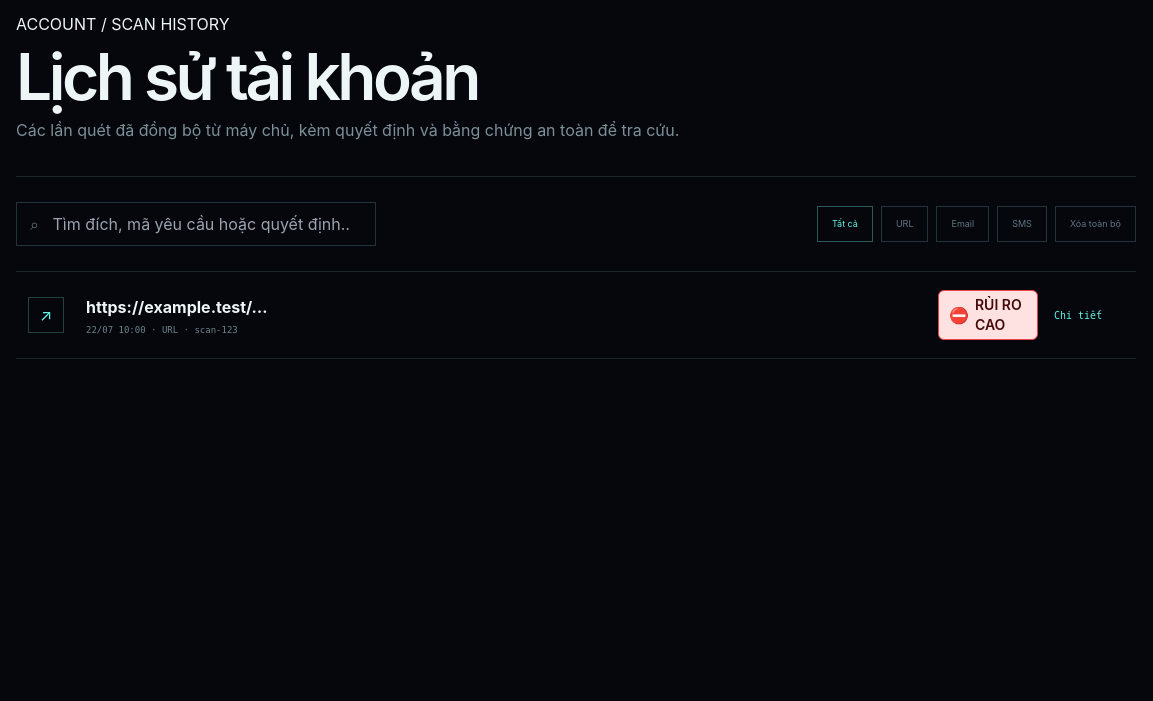
Test case: AccountHistoryPage › requires confirmation and removes only the selected record
Click the button "Chi tiết" at [46, 315], box [16, 272, 1136, 358]
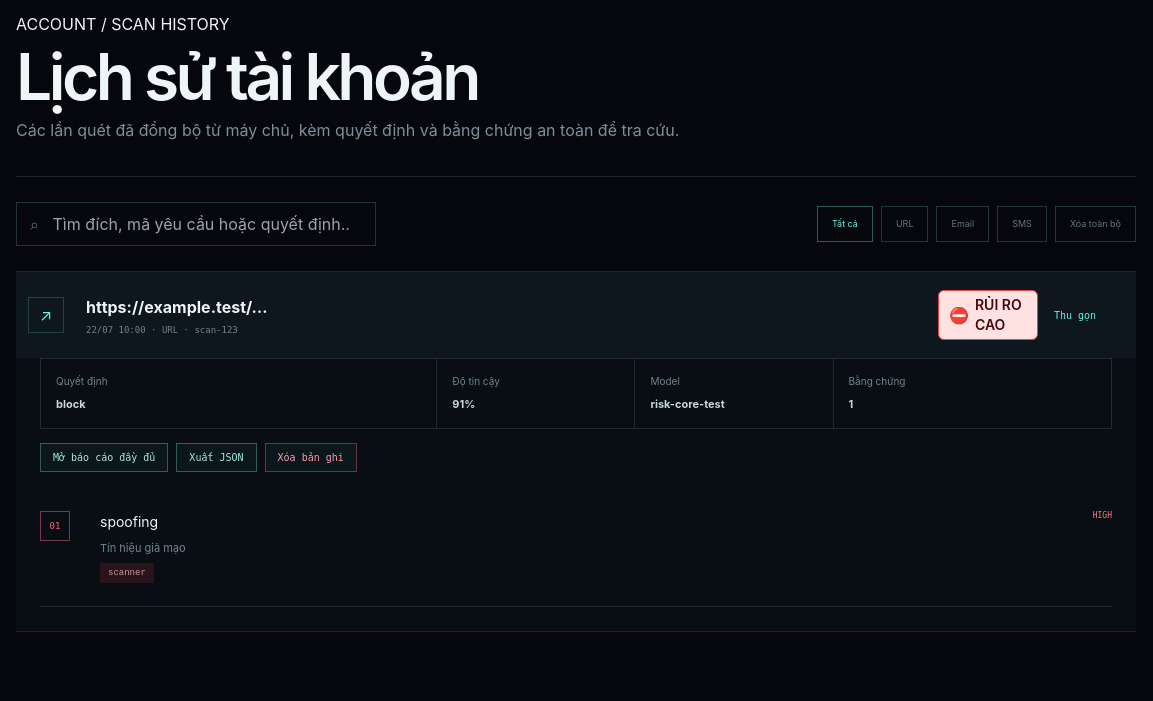
Click the button "Xóa bản ghi" at [311, 457], box [264, 443, 357, 472]
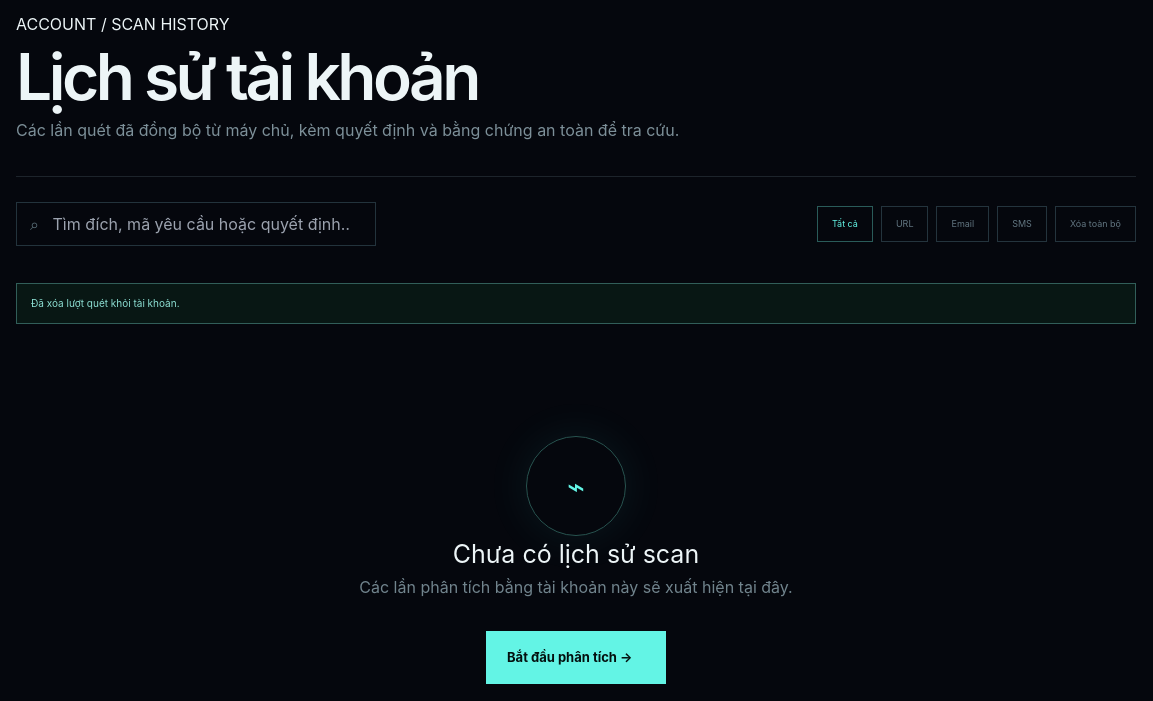
Result: the button "https://example.test/…" is gone
Result: the message shows "Đã xóa lượt quét" at [31, 297, 180, 309]
